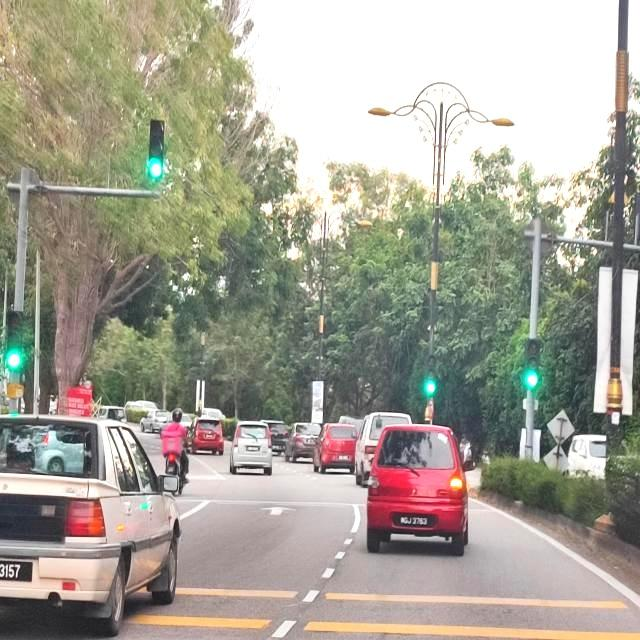Green: (7, 310, 24, 370), (148, 120, 165, 178), (524, 341, 539, 388), (426, 354, 436, 396)
